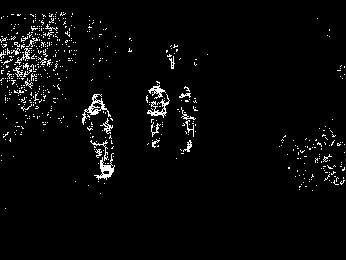person: (82, 93, 116, 180), (145, 81, 170, 150), (177, 85, 197, 156)
